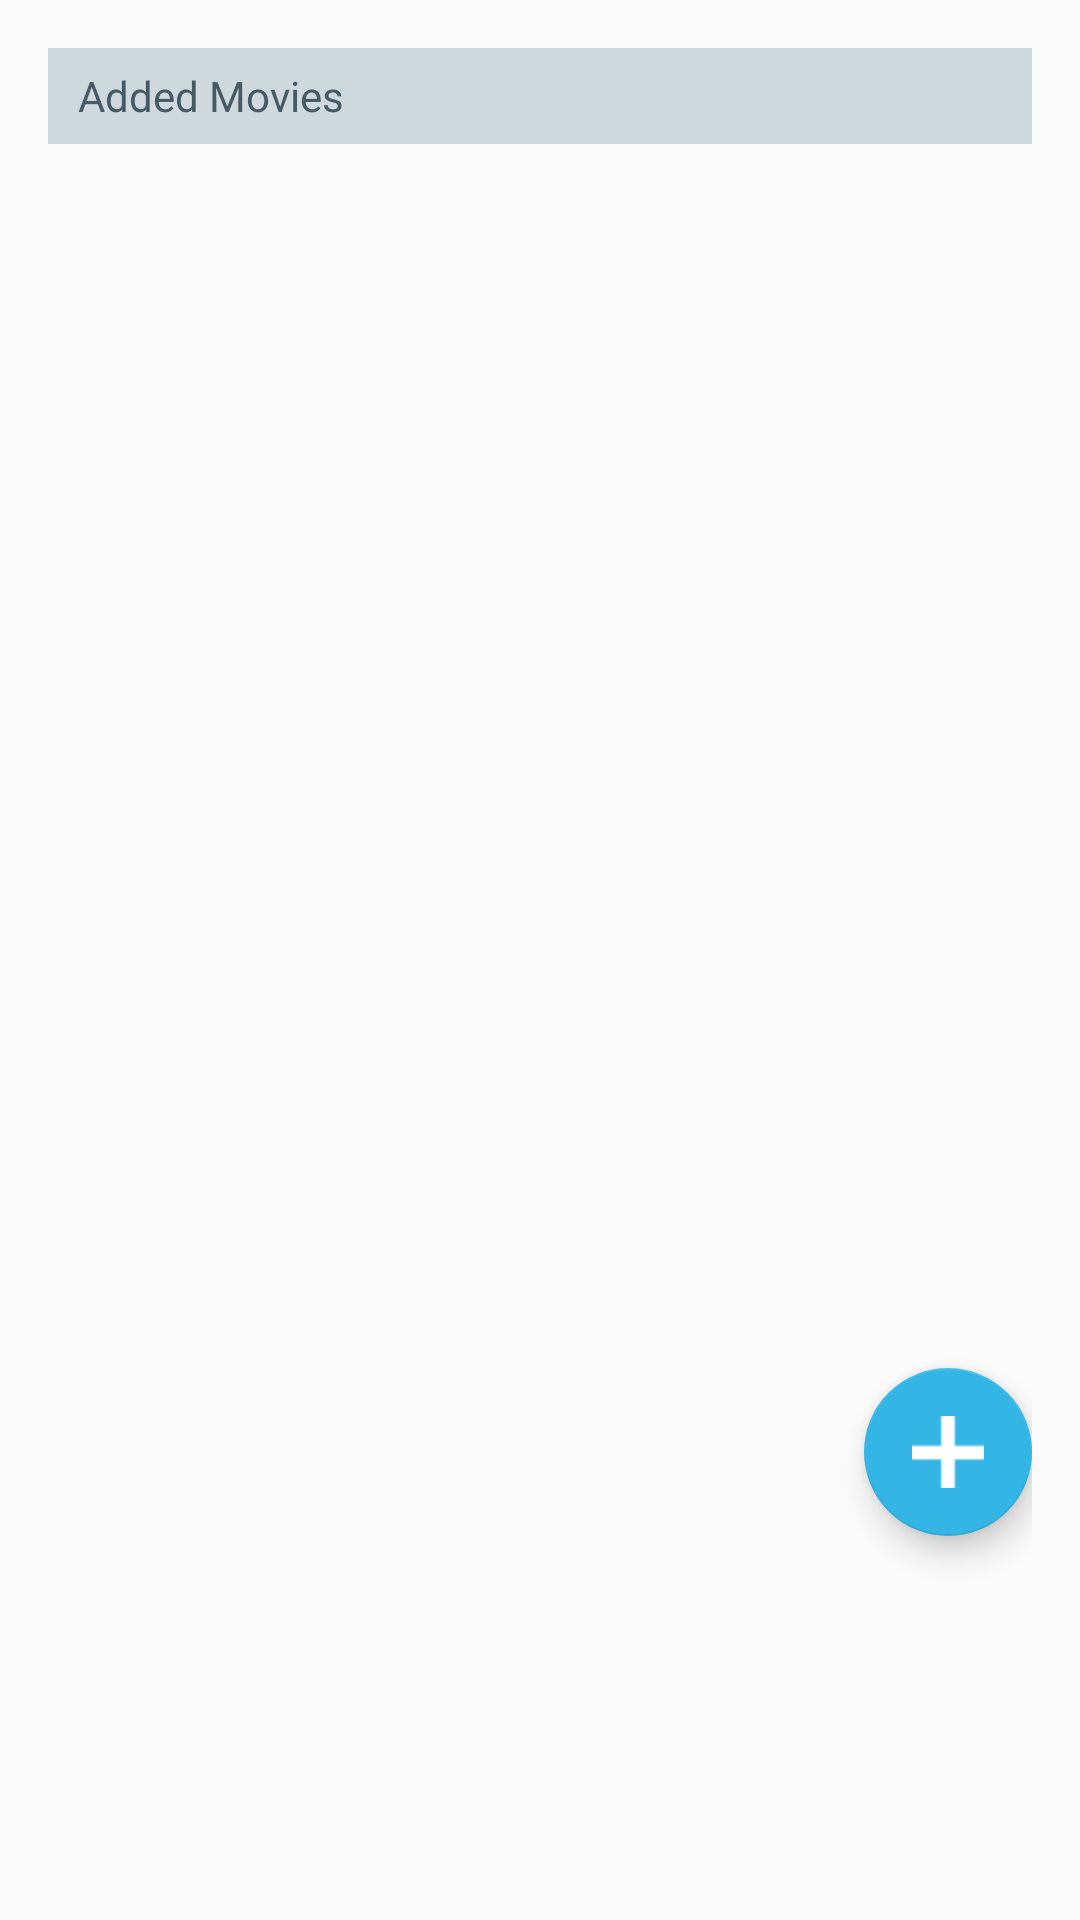

Icon bounding boxes for this 1080x1920 phone screenshot, format bbox(x1, y1, x2, y2):
float add: bbox(864, 1368, 1032, 1536)
